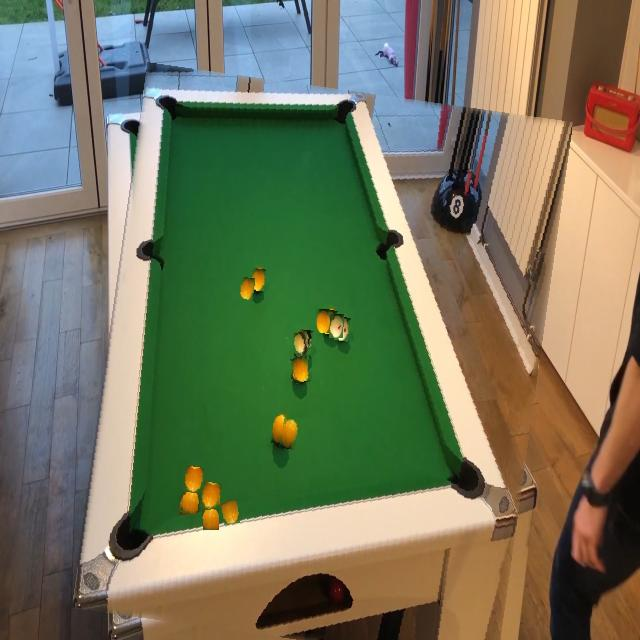Ball: (281, 418, 299, 450), (201, 482, 221, 510), (292, 357, 309, 384), (222, 500, 240, 524), (202, 507, 219, 530), (294, 332, 310, 356), (316, 309, 330, 333), (330, 314, 344, 338), (240, 278, 254, 300)
Billiard table: (88, 75, 555, 640)
